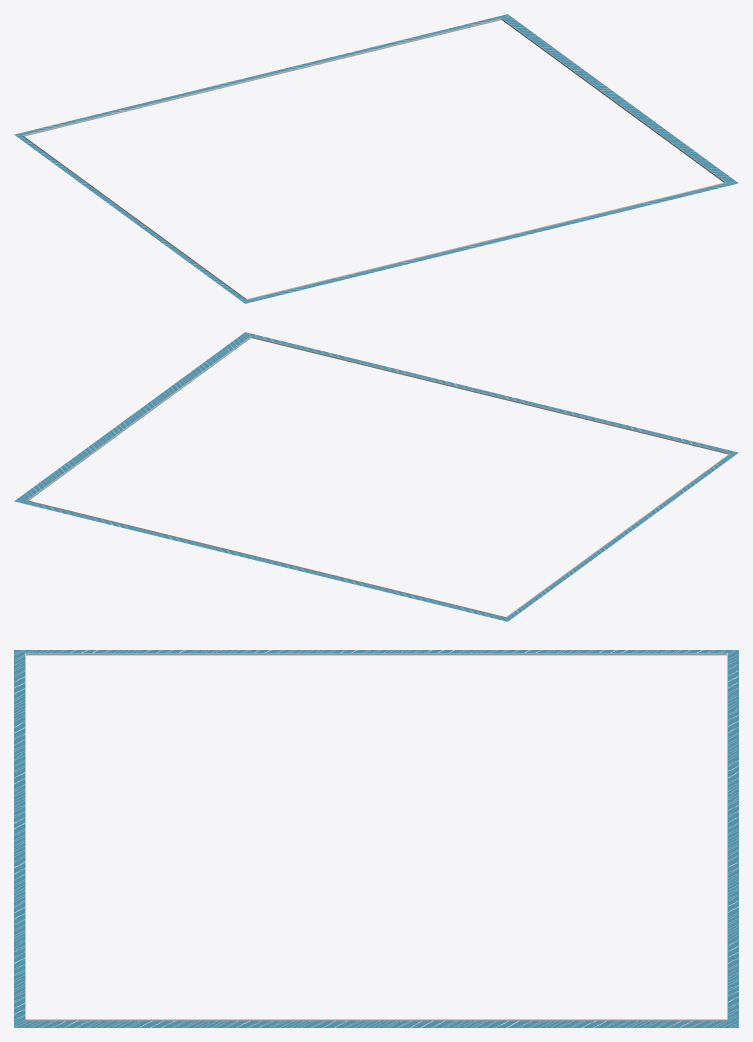
The model's file is Barrier (baked ver).fbx.
3 renders of one model, top to bottom at view 1: azimuth 30°, elevation 25°; view 2: azimuth 150°, elevation 25°; view 3: azimuth 270°, elevation 25°, orthographic. The views are drawn at different scales.
Visible parts, largest first — view 1: Cube.301, Cube.268, Cube.289, Cube.299; view 2: Cube.301, Cube.289, Cube.268, Cube.299; view 3: Cube.301, Cube.300, Cube.299.
Part boxes in pixels (x1,y1,x2,y2): Cube.301: (14,14,738,303); Cube.268: (22,18,501,136); Cube.289: (246,182,726,299); Cube.299: (501,18,725,182); Cube.301: (14,332,738,621); Cube.289: (251,336,730,454); Cube.268: (26,500,506,617); Cube.299: (27,336,251,500); Cube.301: (14,650,738,1027); Cube.300: (26,653,726,655); Cube.299: (26,1019,726,1020).
Size of the model in its own units: 265 by 0.7201 by 215.
2 materials, 1 textured.
